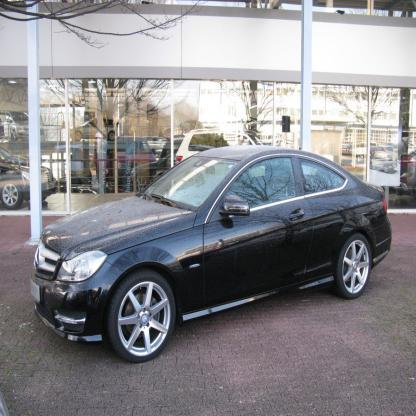car: (29, 144, 395, 360)
